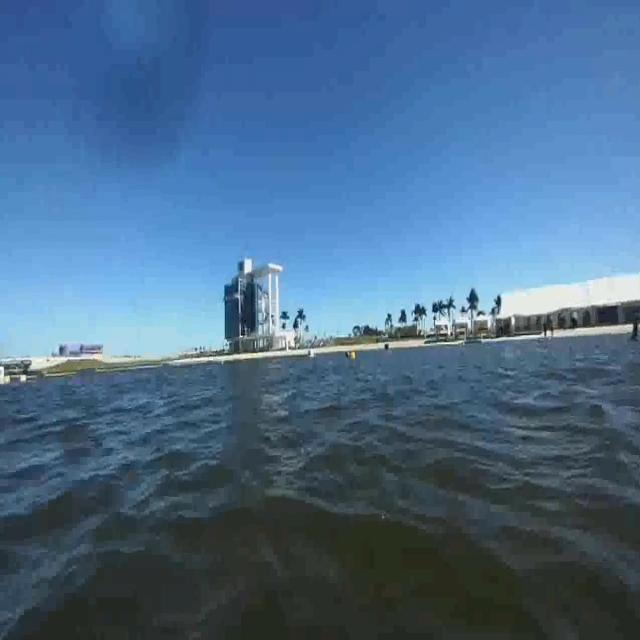yellow-buoy: (352, 350, 356, 361)
